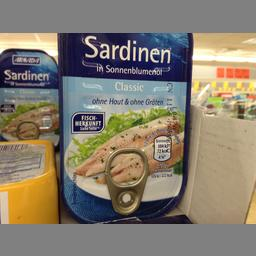fish: (56, 32, 192, 221), (0, 48, 59, 144)
